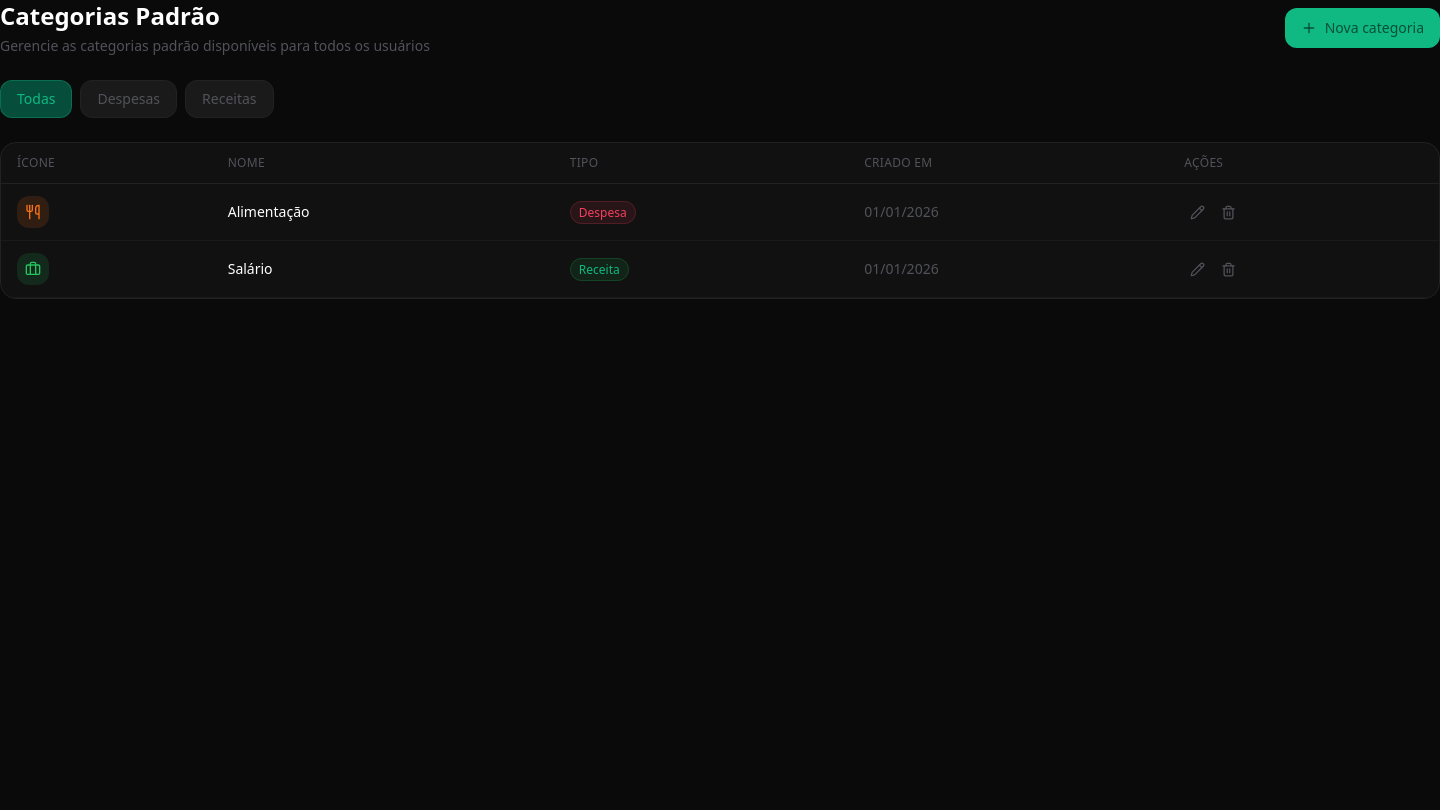
Test case: AdminCategoriesPage › deve abrir modal de criação ao clicar em nova categoria
Click the button "Nova categoria".
click(1362, 28)  # box [1285, 8, 1439, 48]
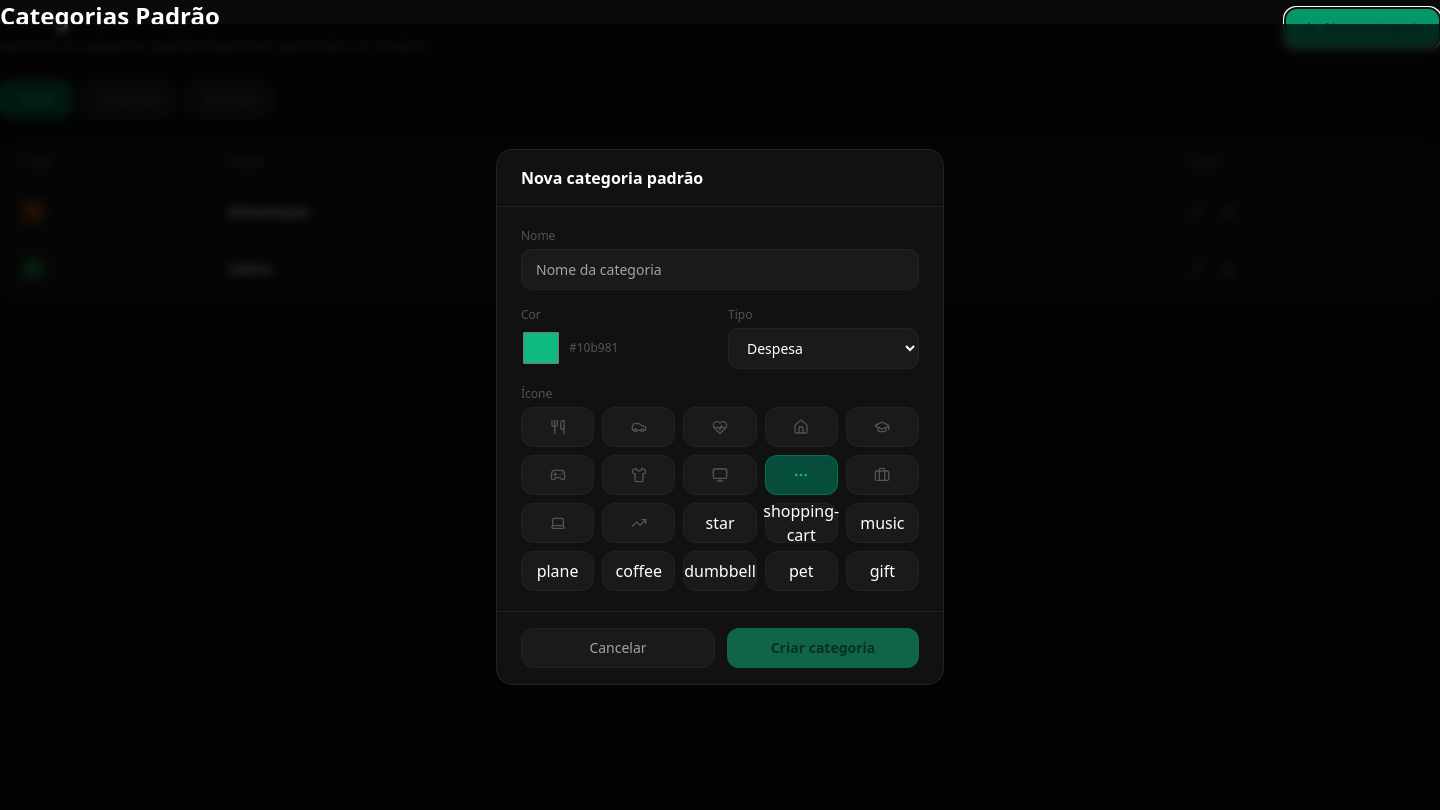
Now the heading "Nova categoria padrão" is shown, box [521, 167, 703, 189]
